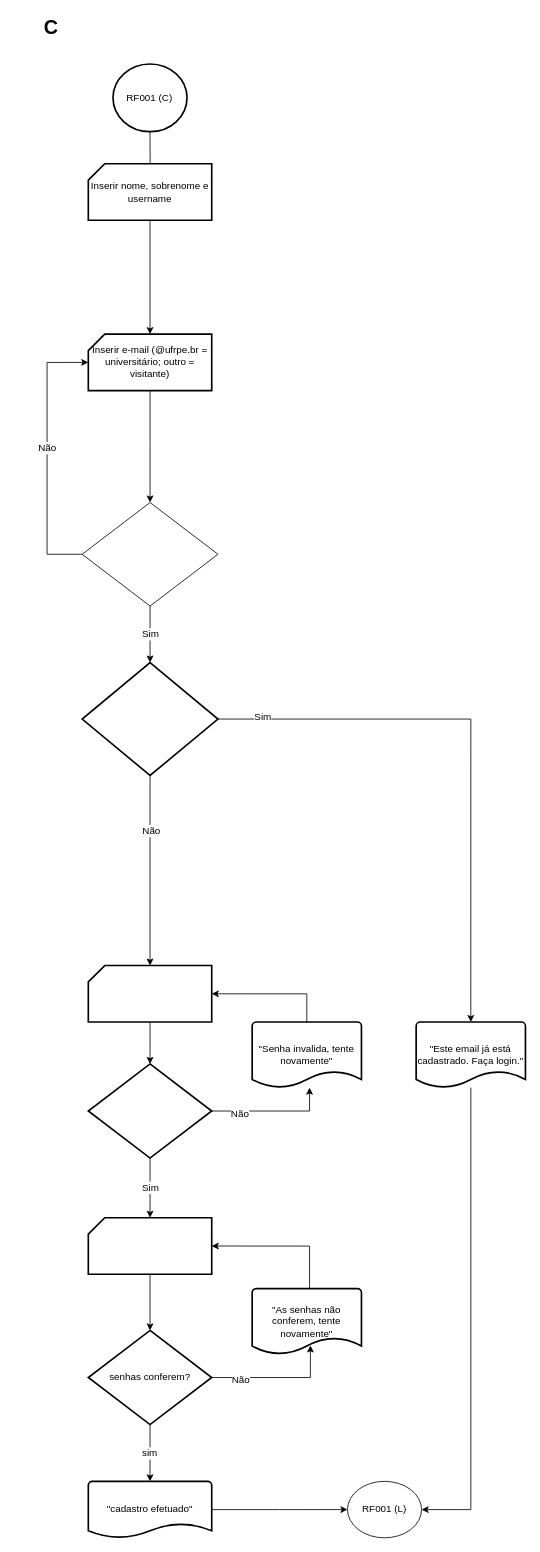
The diagram is 540 pixels wide and 1552 high, and some of its shapes have lost their labels. The centre of each missing label's shape, as x and y in pixels:
"email já cadastrado?" belongs at pixel 149 718.
"email é válido?" belongs at pixel 149 554.
"Inserir senha" belongs at pixel 149 993.
"insira confirmação de senha" belongs at pixel 149 1246.
"senha é valida?" belongs at pixel 149 1110.
